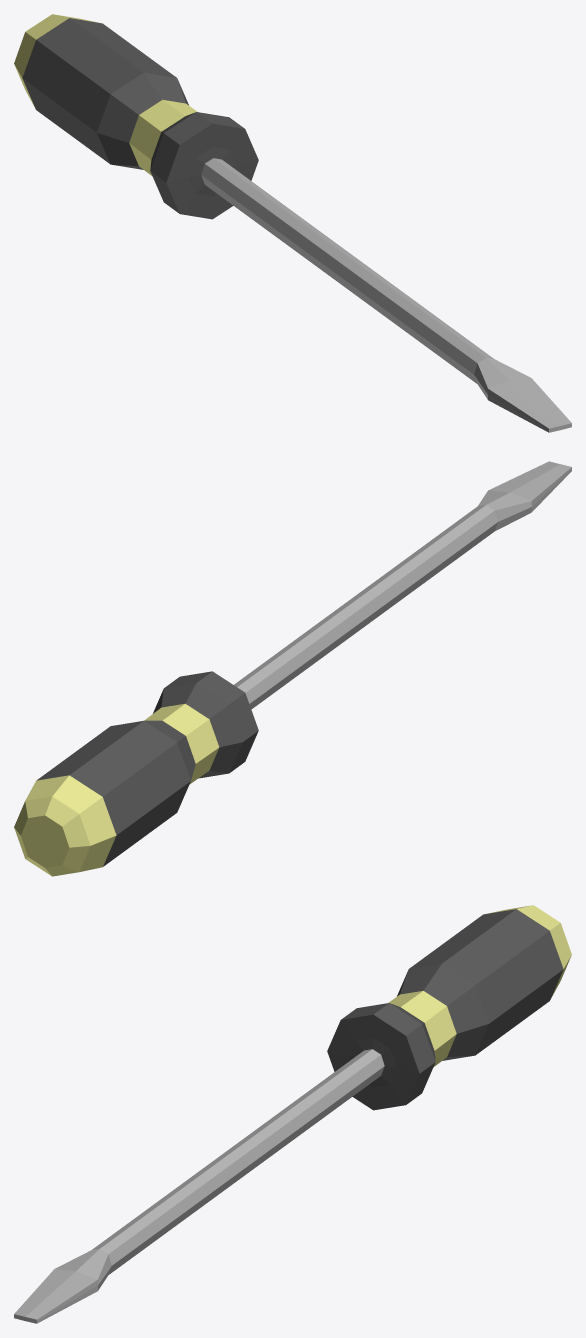
File: screwdriver_fbx.fbx
3 renders of one model, top to bottom at view 1: azimuth 30°, elevation 25°; view 2: azimuth 150°, elevation 25°; view 3: azimuth 330°, elevation 25°, orthographic.
Visible parts, largest first — view 1: screwDriver; view 2: screwDriver; view 3: screwDriver.
Boxes of the visible parts, <box> form: screwDriver: <box>14,14,571,432</box>; screwDriver: <box>14,461,571,876</box>; screwDriver: <box>14,905,571,1323</box>.
Size of the model in its own units: 0.9775 by 0.9657 by 9.26.
